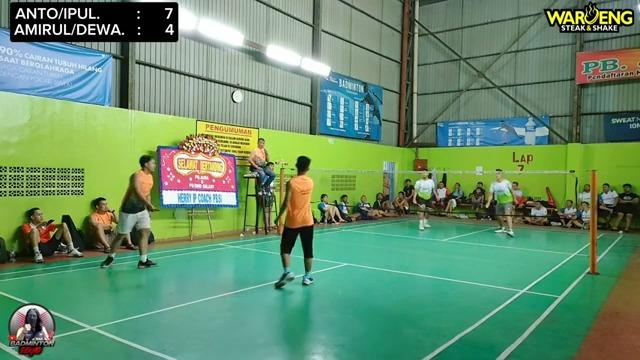Shuttlecock: (326, 137, 338, 149)
